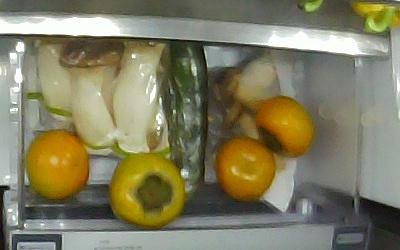persimmon: (111, 154, 184, 229), (26, 130, 89, 200), (216, 137, 277, 200), (256, 96, 315, 158)
